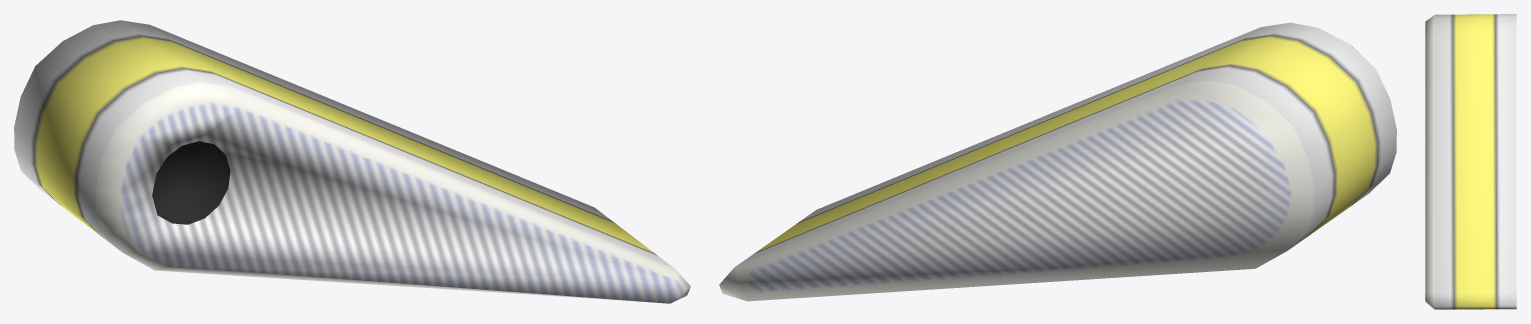
File: pinball.paddle.L.fbx
3 views of the same model, side by side, from view 1: azimuth 30°, elevation 25°; view 2: azimuth 150°, elevation 25°; view 3: azimuth 270°, elevation 25° (orthographic). The views are drawn at different scales.
Visible parts, largest first — view 1: Paddle; view 2: Paddle; view 3: Paddle.
Boxes of the visible parts, box(x1,y1,x2,y2) form: Paddle: box(14, 20, 690, 303); Paddle: box(719, 22, 1396, 301); Paddle: box(1425, 14, 1516, 309).
Size of the model in its own units: 0.3044 by 0.1645 by 0.0807.
